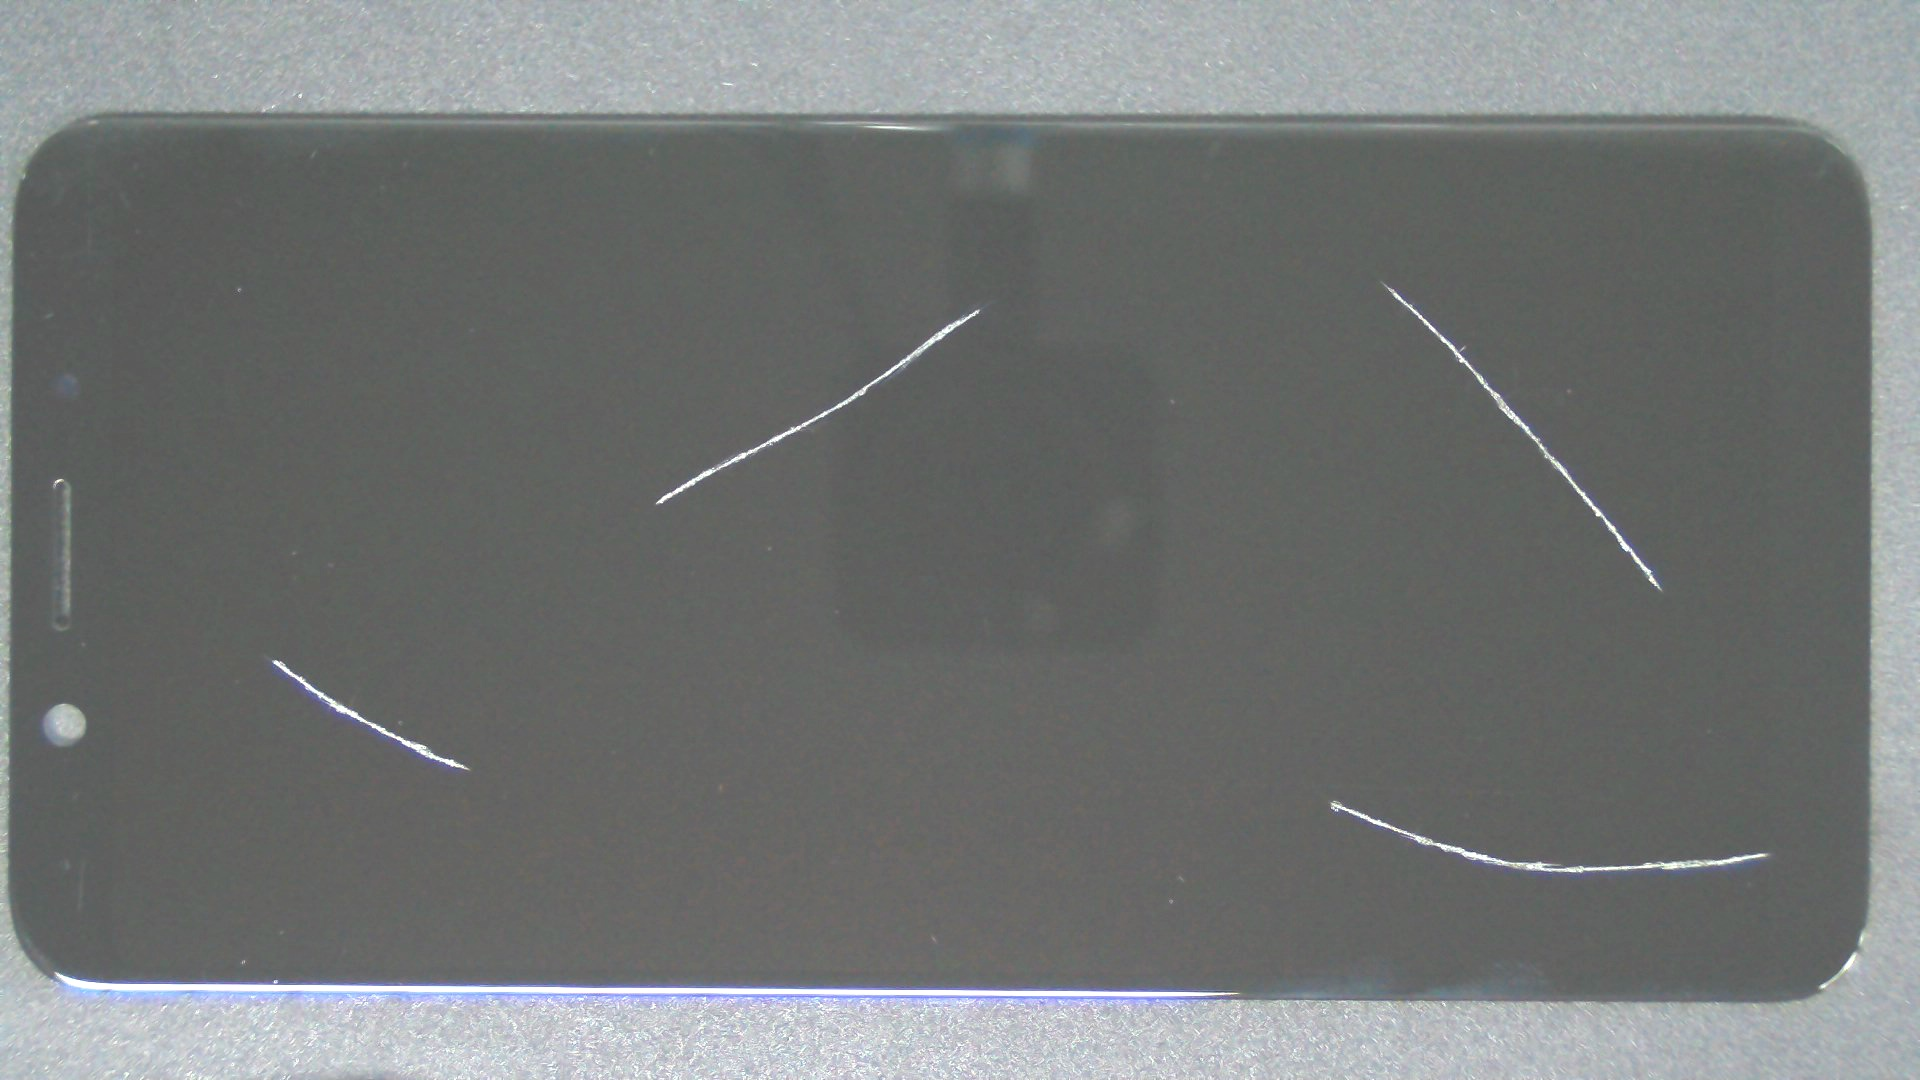oil: (669, 400, 1920, 1080), (691, 141, 1920, 423), (491, 153, 1468, 463), (135, 328, 407, 989)
